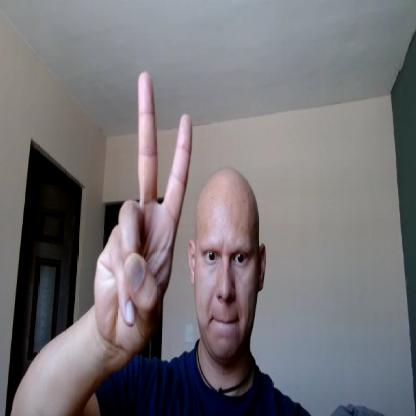V: (94, 70, 193, 347)
